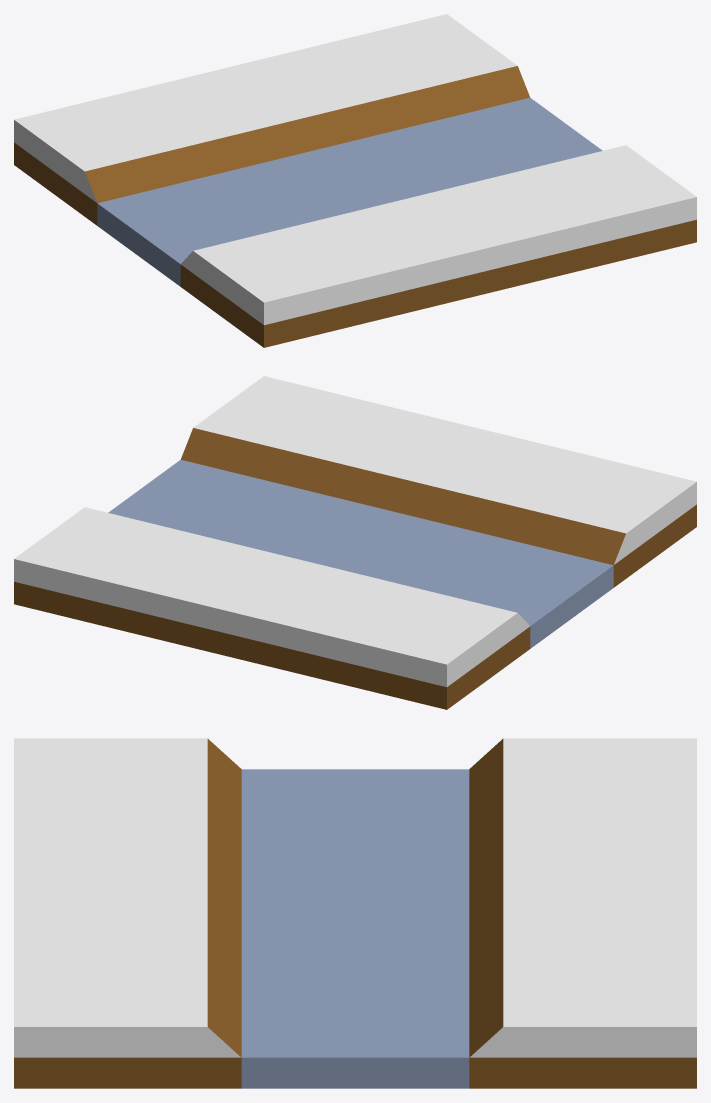
Rendered from WinterRiverStraight.fbx.
3 renders of one model, top to bottom at view 1: azimuth 30°, elevation 25°; view 2: azimuth 150°, elevation 25°; view 3: azimuth 270°, elevation 25°, orthographic. The views are drawn at different scales.
Visible parts, largest first — view 1: WinterRiverStraight; view 2: WinterRiverStraight; view 3: WinterRiverStraight.
Part boxes in pixels (x1,y1,x2,y2): WinterRiverStraight: (14, 14, 696, 347); WinterRiverStraight: (14, 376, 696, 709); WinterRiverStraight: (14, 738, 696, 1088).
Bounding box in the file's own units: 1 × 0.1 × 1.
